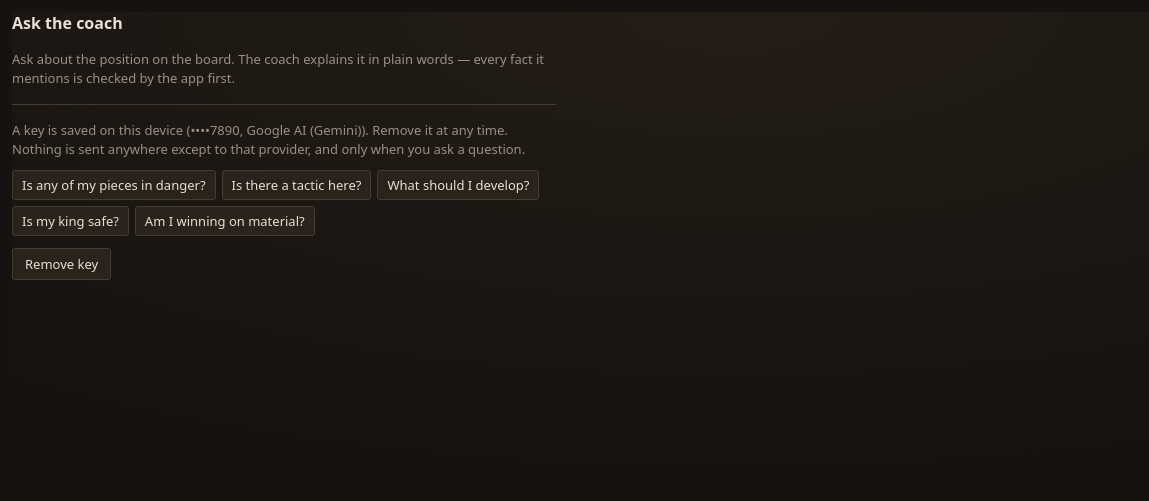
it: CoachPanel: the facts survive every failure › shows the facts when the provider is out of quota
The width and height of the screenshot is (1149, 501).
Step 1. Click the button with test id "coach-ask-hanging" → (114, 185), box [12,170,216,200]
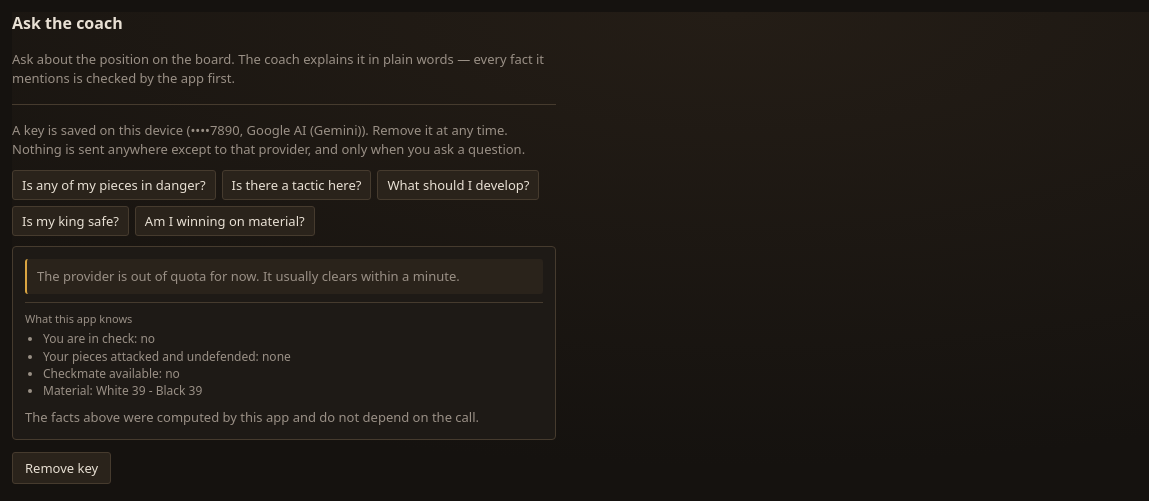
Expected: the message with test id "coach-failure" shows "quota", [37,267,460,285]
Expected: the element with test id "coach-facts" is shown, [25,302,543,400]
